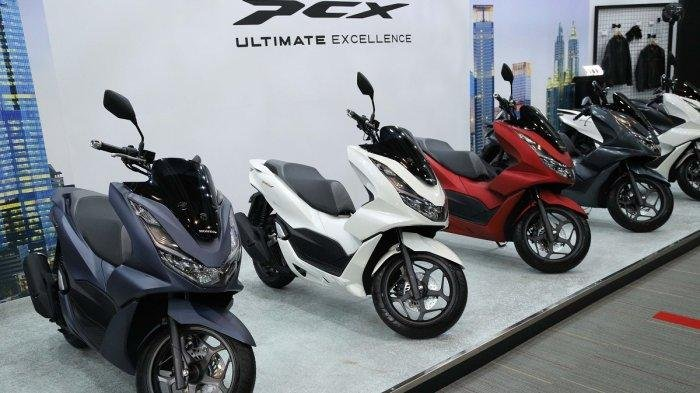motor: (34, 142, 282, 393), (235, 103, 470, 355), (450, 104, 600, 261)
